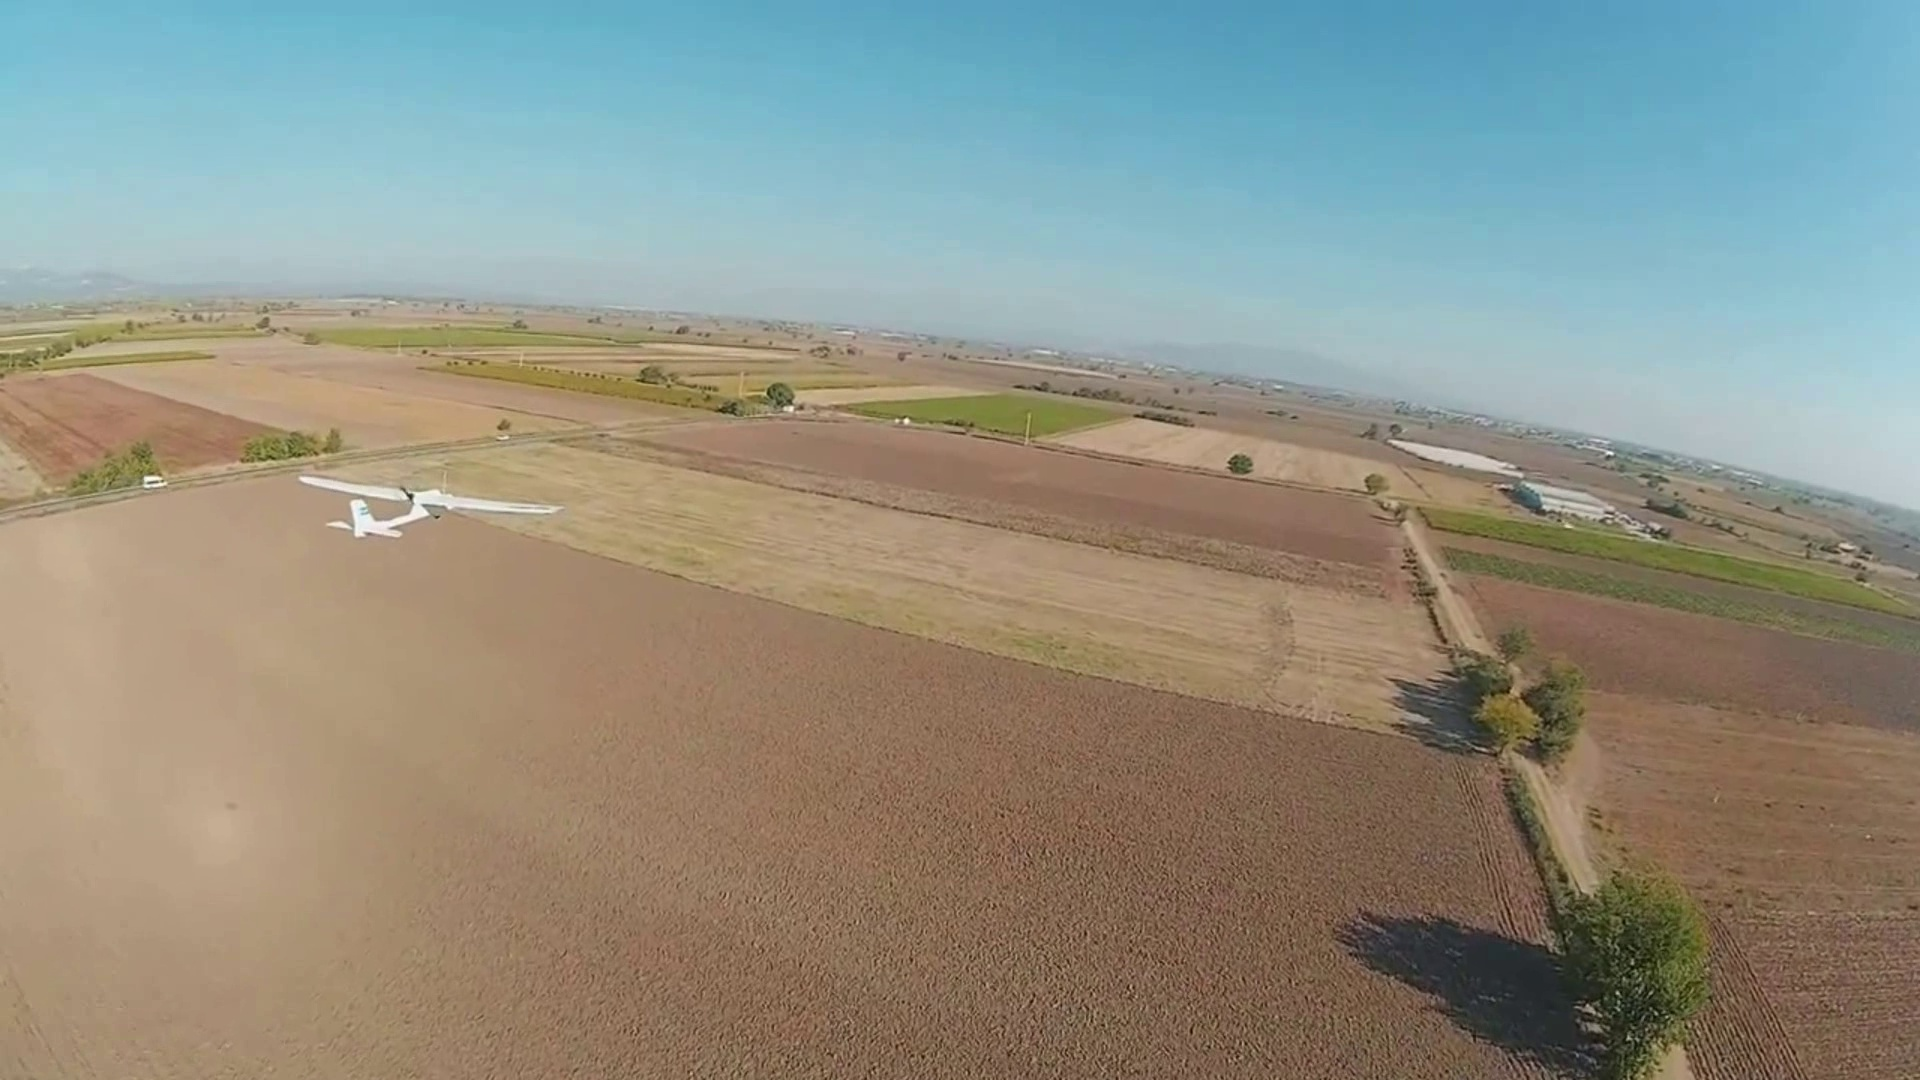airplane: (295, 472, 562, 540)
